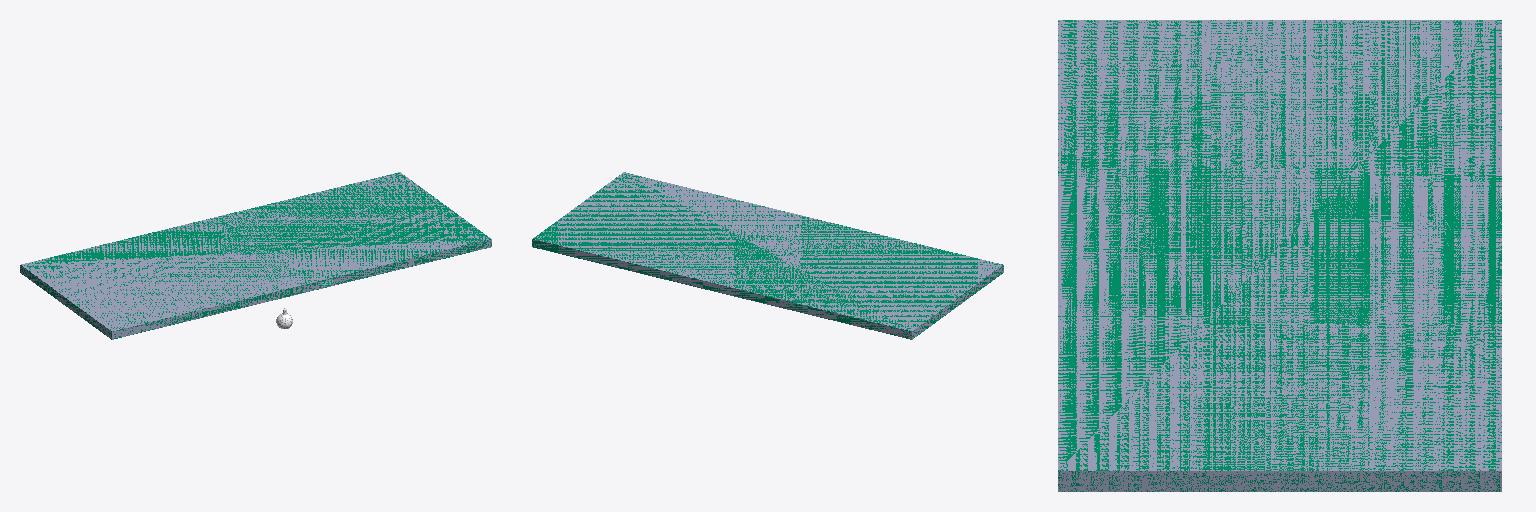
The robot description file, URDF, robot "right-pull-door":
<?xml version="1.0" ?>
<robot name="right-pull-door">
	<link name="base"/>
	<link name="link_0">
		<visual name="out-frame">
			<origin xyz="0 0 0"/>
			<geometry>
				<mesh filename="texture_dae/frame.dae" scale="0.8478182469242799 0.8478182469242799 0.8478182469242799"/>
			</geometry>
		</visual>
		<collision>
			<origin xyz="0 0 0"/>
			<geometry>
				<mesh filename="texture_dae/frame.dae" scale="0.8478182469242799 0.8478182469242799 0.8478182469242799"/>
			</geometry>
		</collision>
	</link>
	<joint name="joint_0" type="fixed">
		<origin rpy="1.570796326794897 0 -1.570796326794897" xyz="0 0 0"/>
		<child link="link_0"/>
		<parent link="base"/>
	</joint>
	<link name="link_1">
		<visual name="surf-board">
			<origin xyz="0.37388539076500105 -0.8827337360497255 0"/>
			<geometry>
				<mesh filename="texture_dae/board.dae" scale="0.8478182469242799 0.8478182469242799 0.8478182469242799"/>
			</geometry>
		</visual>
		<collision>
			<origin xyz="0.37388539076500105 -0.8827337360497255 0"/>
			<geometry>
				<mesh filename="texture_dae/board.dae" scale="0.8478182469242799 0.8478182469242799 0.8478182469242799"/>
			</geometry>
		</collision>
	</link>
	<joint name="joint_1" type="revolute">
		<origin xyz="-0.37388539076500105 0.8827337360497255 0"/>
		<axis xyz="0 -1 0"/>
		<child link="link_1"/>
		<parent link="link_0"/>
		<limit lower="0" upper="1.5079644737231006"/>
	</joint>
	<link name="link_2">
		<visual name="handle">
			<origin xyz="0 0 0"/>
			<geometry>
				<mesh filename="texture_dae/9962013.dae" scale="1.3207048071357528 1.3207048071357528 1.3207048071357528"/>
			</geometry>
		</visual>
		<collision>
			<origin xyz="0 0 0"/>
			<geometry>
				<mesh filename="texture_dae/9962013.dae" scale="1.3207048071357528 1.3207048071357528 1.3207048071357528"/>
			</geometry>
		</collision>
	</link>
	<joint name="joint_2" type="revolute">
		<origin xyz="0.6683267710965045 -0.9954460395652405 0.01958245790021013"/>
		<child link="link_2"/>
		<parent link="link_1"/>
		<axis xyz="0 0 1"/>
		<limit lower="0" upper="1.5079644737231006"/>
	</joint>
</robot>

--- Render facts (derived) ---
3 views of the same robot in one strip: view 1: azimuth 30°, elevation 25°; view 2: azimuth 150°, elevation 25°; view 3: azimuth 270°, elevation 25° (orthographic).
Robot: right-pull-door — 4 links, 3 joints (2 revolute, 1 fixed); root link base; default pose: every joint at zero.
Links seen in each view (by area): view 1: link_1; view 2: link_1; view 3: link_1.
Boxes of the visible links, bbox=[...] form: link_1: bbox=[20, 172, 491, 339]; link_1: bbox=[532, 172, 1003, 339]; link_1: bbox=[1058, 20, 1501, 491].
Bounding box of the posed robot: 1.8 × 0.7483 × 0.2205 m (x, y, z).
Meshes: 3 distinct files referenced, 2 mesh visuals loaded (2 Collada DAE); not drawn: 1 (reference not matched to a file when rendering).
